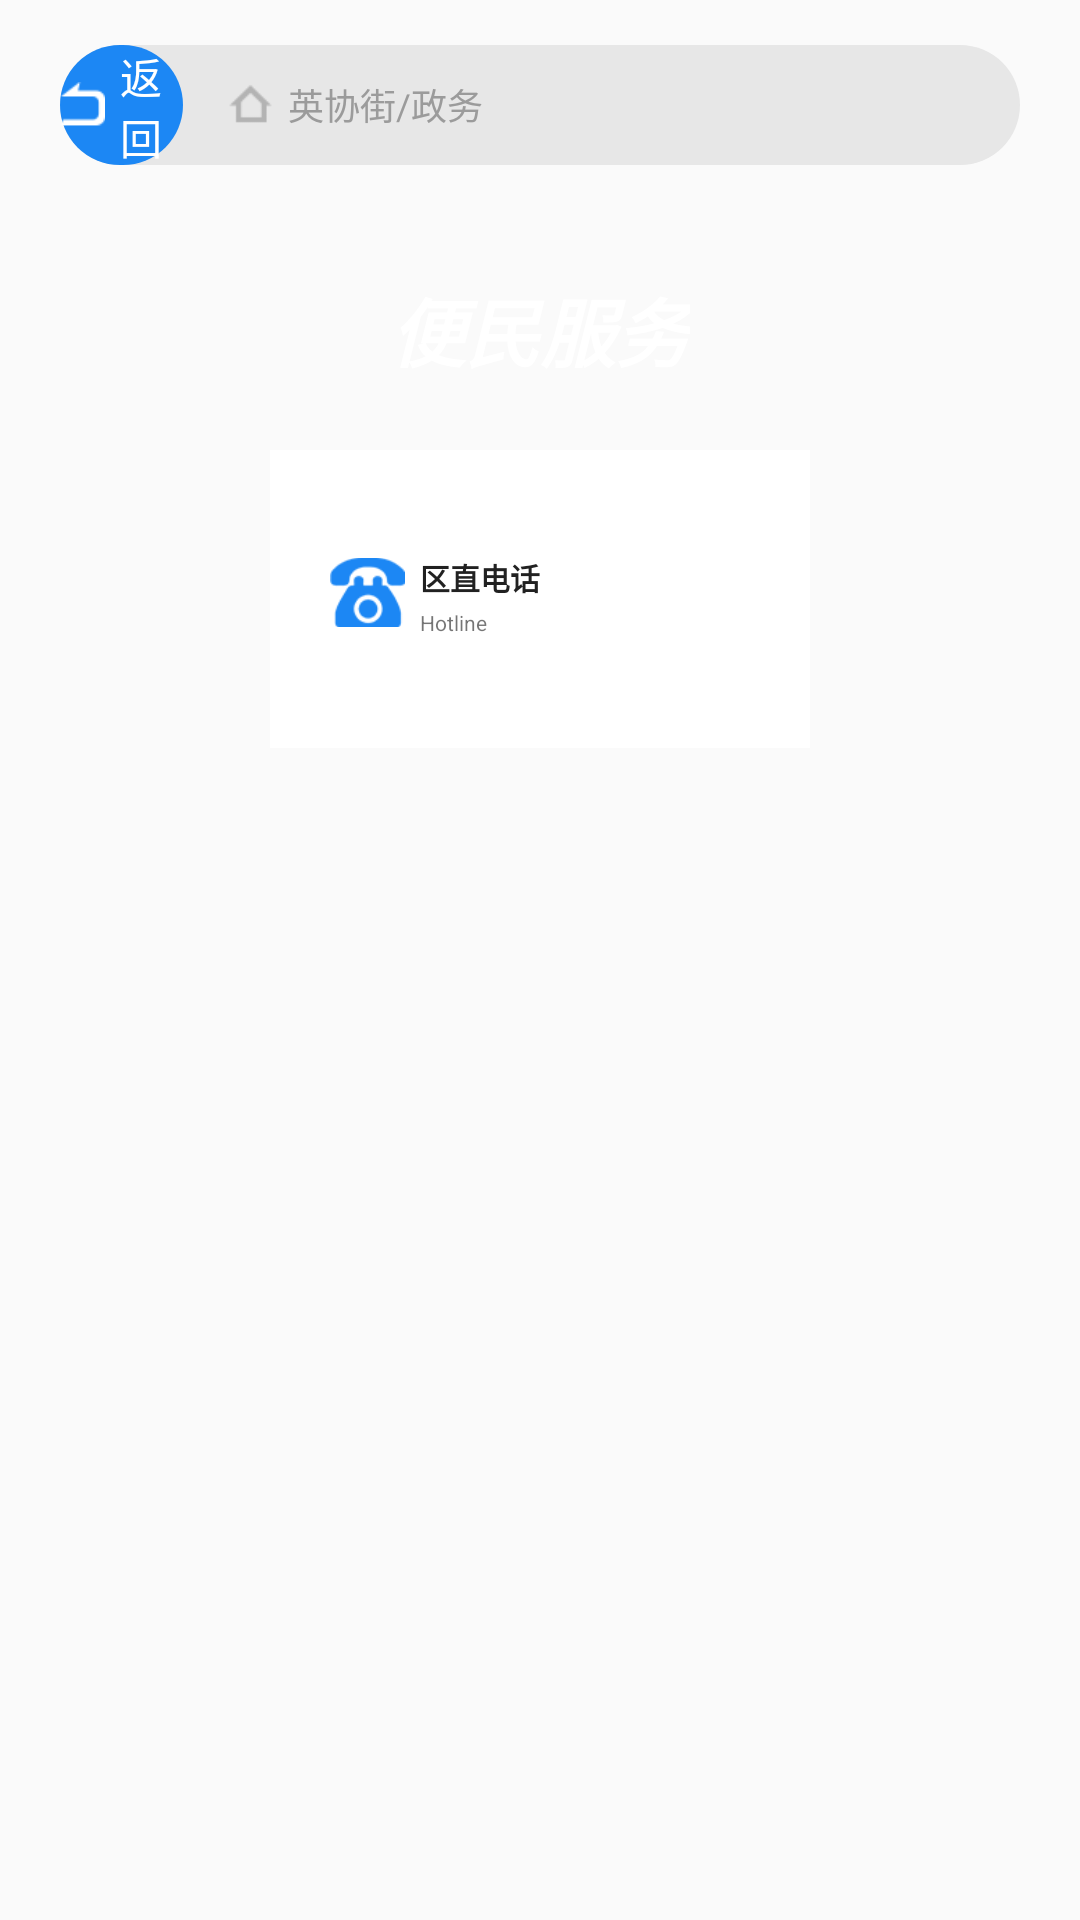

Screen size 1080×1920. Icon name, then its box in pixels as (x1, y1, x2, y2):
crumb home: (231, 86, 270, 122)
tel: (330, 558, 405, 627)
